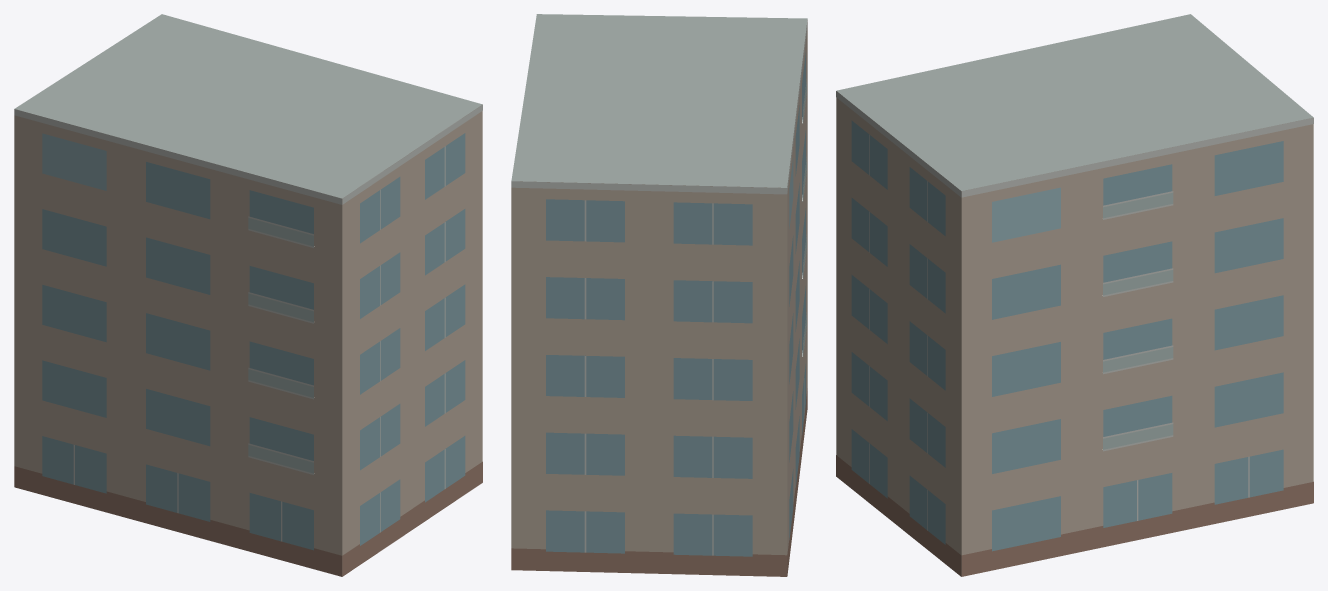
The model's file is survey-upis-32835456.glb.
3 renders of one model, left to right at view 1: azimuth 30°, elevation 25°; view 2: azimuth 150°, elevation 25°; view 3: azimuth 270°, elevation 25°, orthographic. The views are drawn at different scales.
Parts seen in each view (by area): view 1: survey-upis-32835456.tmp; view 2: survey-upis-32835456.tmp; view 3: survey-upis-32835456.tmp.
Part boxes in pixels (x1,y1,x2,y2): survey-upis-32835456.tmp: (14, 14, 482, 576); survey-upis-32835456.tmp: (511, 14, 807, 576); survey-upis-32835456.tmp: (836, 14, 1313, 576).
Bounding box in the file's own units: 14.29 × 14.5 × 16.28.
